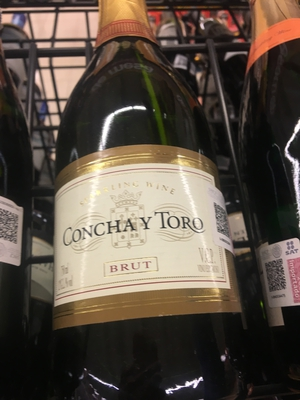brut: (49, 14, 267, 398)
